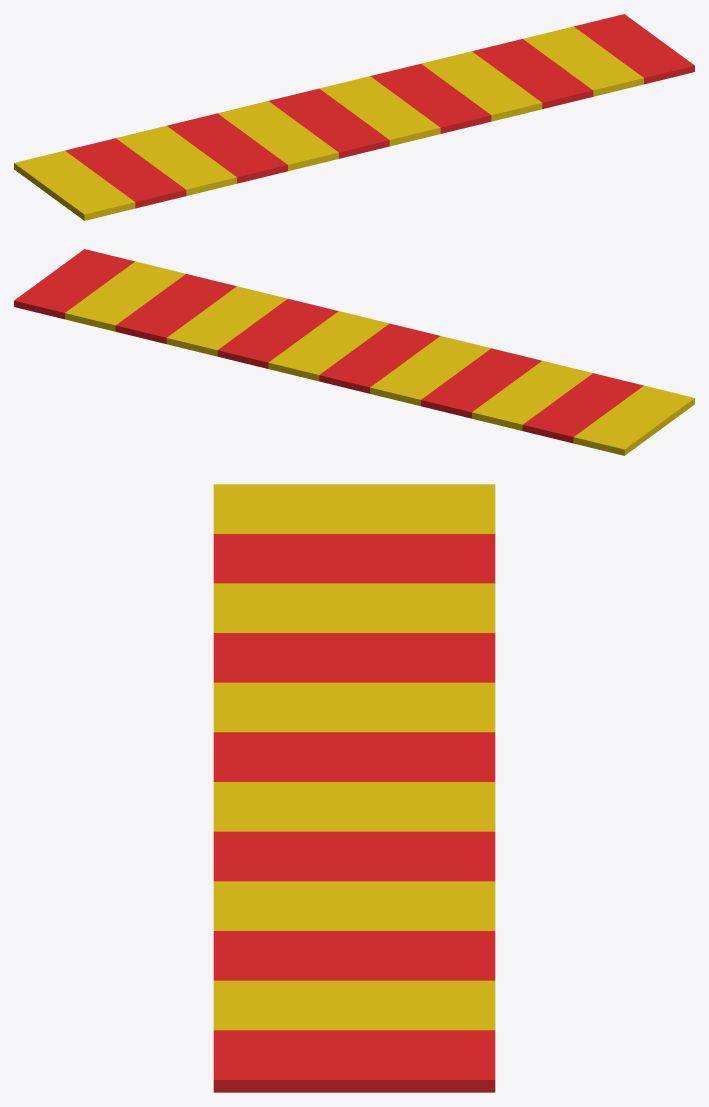
File: lineapunteda.fbx
3 views of the same model, one above another, from view 1: azimuth 30°, elevation 25°; view 2: azimuth 150°, elevation 25°; view 3: azimuth 270°, elevation 25° (orthographic). The views are drawn at different scales.
Parts seen in each view (by area): view 1: Linea; view 2: Linea; view 3: Linea.
Part boxes in pixels (left/top/right/bottom): Linea: left=14, top=14, right=694, bottom=220; Linea: left=14, top=249, right=694, bottom=455; Linea: left=213, top=484, right=495, bottom=1092.
Bounding box in the file's own units: 1000 × 10 × 200.
